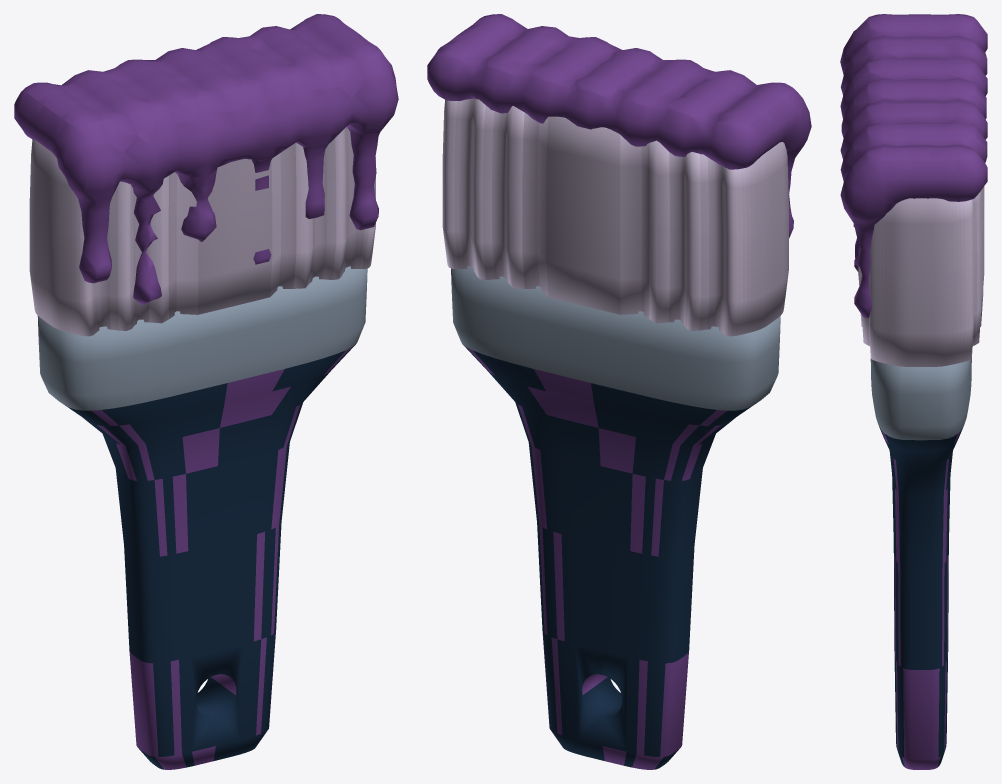
The model's file is Paintbrush_Kraken.glb.
3 renders of one model, left to right at view 1: azimuth 30°, elevation 25°; view 2: azimuth 150°, elevation 25°; view 3: azimuth 270°, elevation 25°, orthographic. The views are drawn at different scales.
Parts seen in each view (by area): view 1: Body, Paint, Bristles; view 2: Body, Bristles, Paint; view 3: Paint, Body, Bristles.
Part boxes in pixels (bbox=[...]): Body: bbox=[37, 266, 367, 769]; Paint: bbox=[14, 14, 398, 305]; Bristles: bbox=[29, 127, 375, 336]; Body: bbox=[451, 266, 780, 769]; Bristles: bbox=[442, 98, 788, 336]; Paint: bbox=[427, 14, 811, 238]; Paint: bbox=[840, 14, 987, 318]; Body: bbox=[870, 358, 971, 769]; Bristles: bbox=[858, 186, 984, 366].
Size of the model in its own units: 1.23 by 2.44 by 0.4919.
